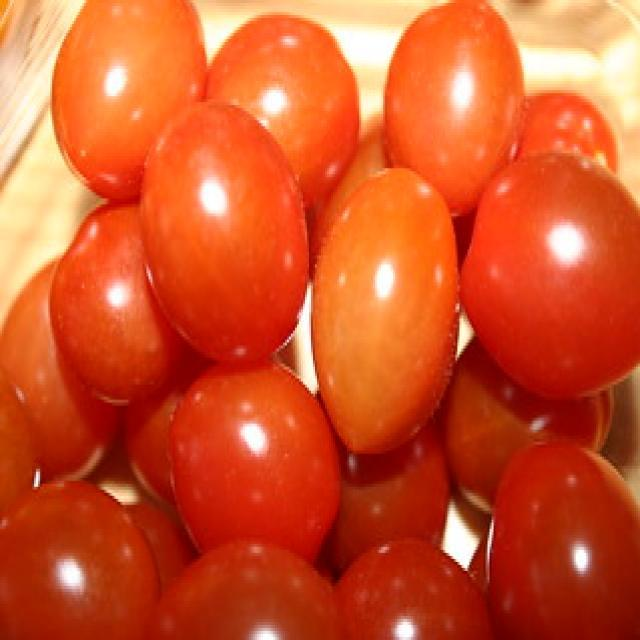kirmizi: (468, 164, 630, 640)
sari: (308, 152, 456, 458)
